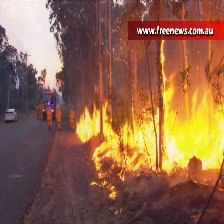fire_h: (92, 85, 223, 200), (77, 100, 115, 143), (89, 179, 116, 199)
fire_l: (113, 207, 122, 214)
